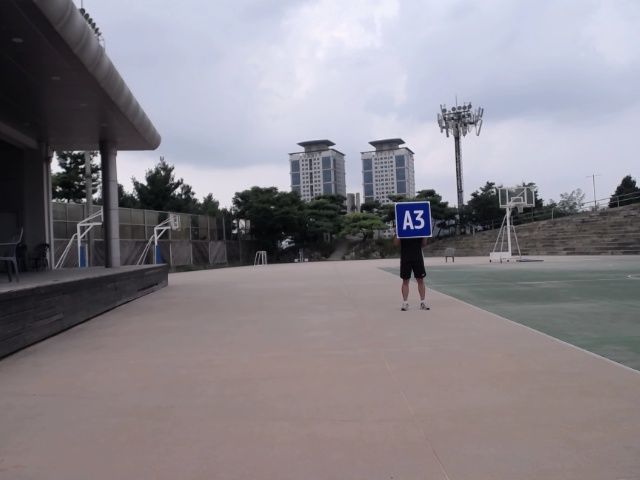delivery_a3: (395, 202, 431, 238)
